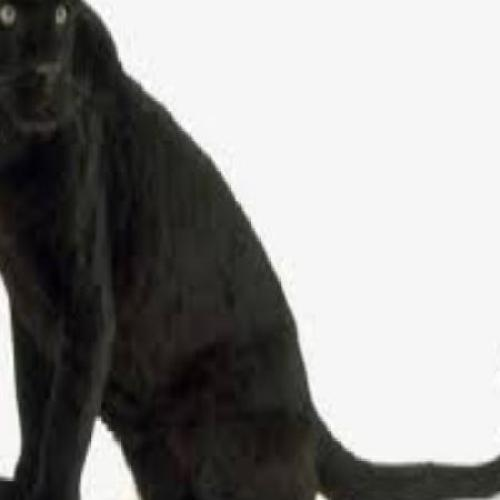panther-endangered: (0, 0, 327, 500)
